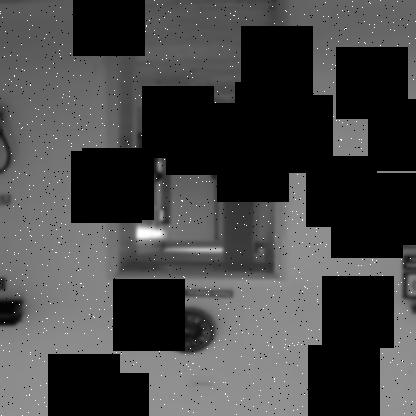Porte: (100, 1, 293, 284)
